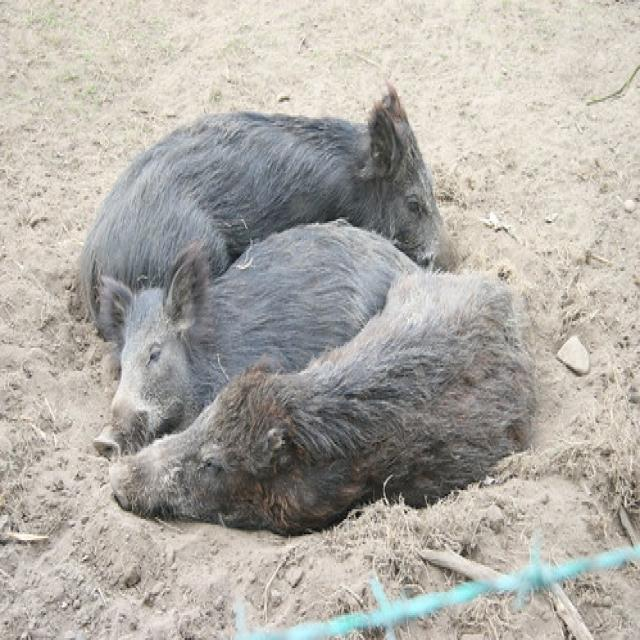boar: (99, 260, 555, 554), (61, 86, 464, 360), (88, 216, 471, 474)
